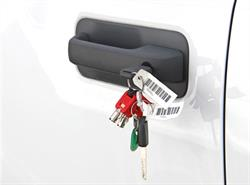keys: (113, 76, 159, 183)
